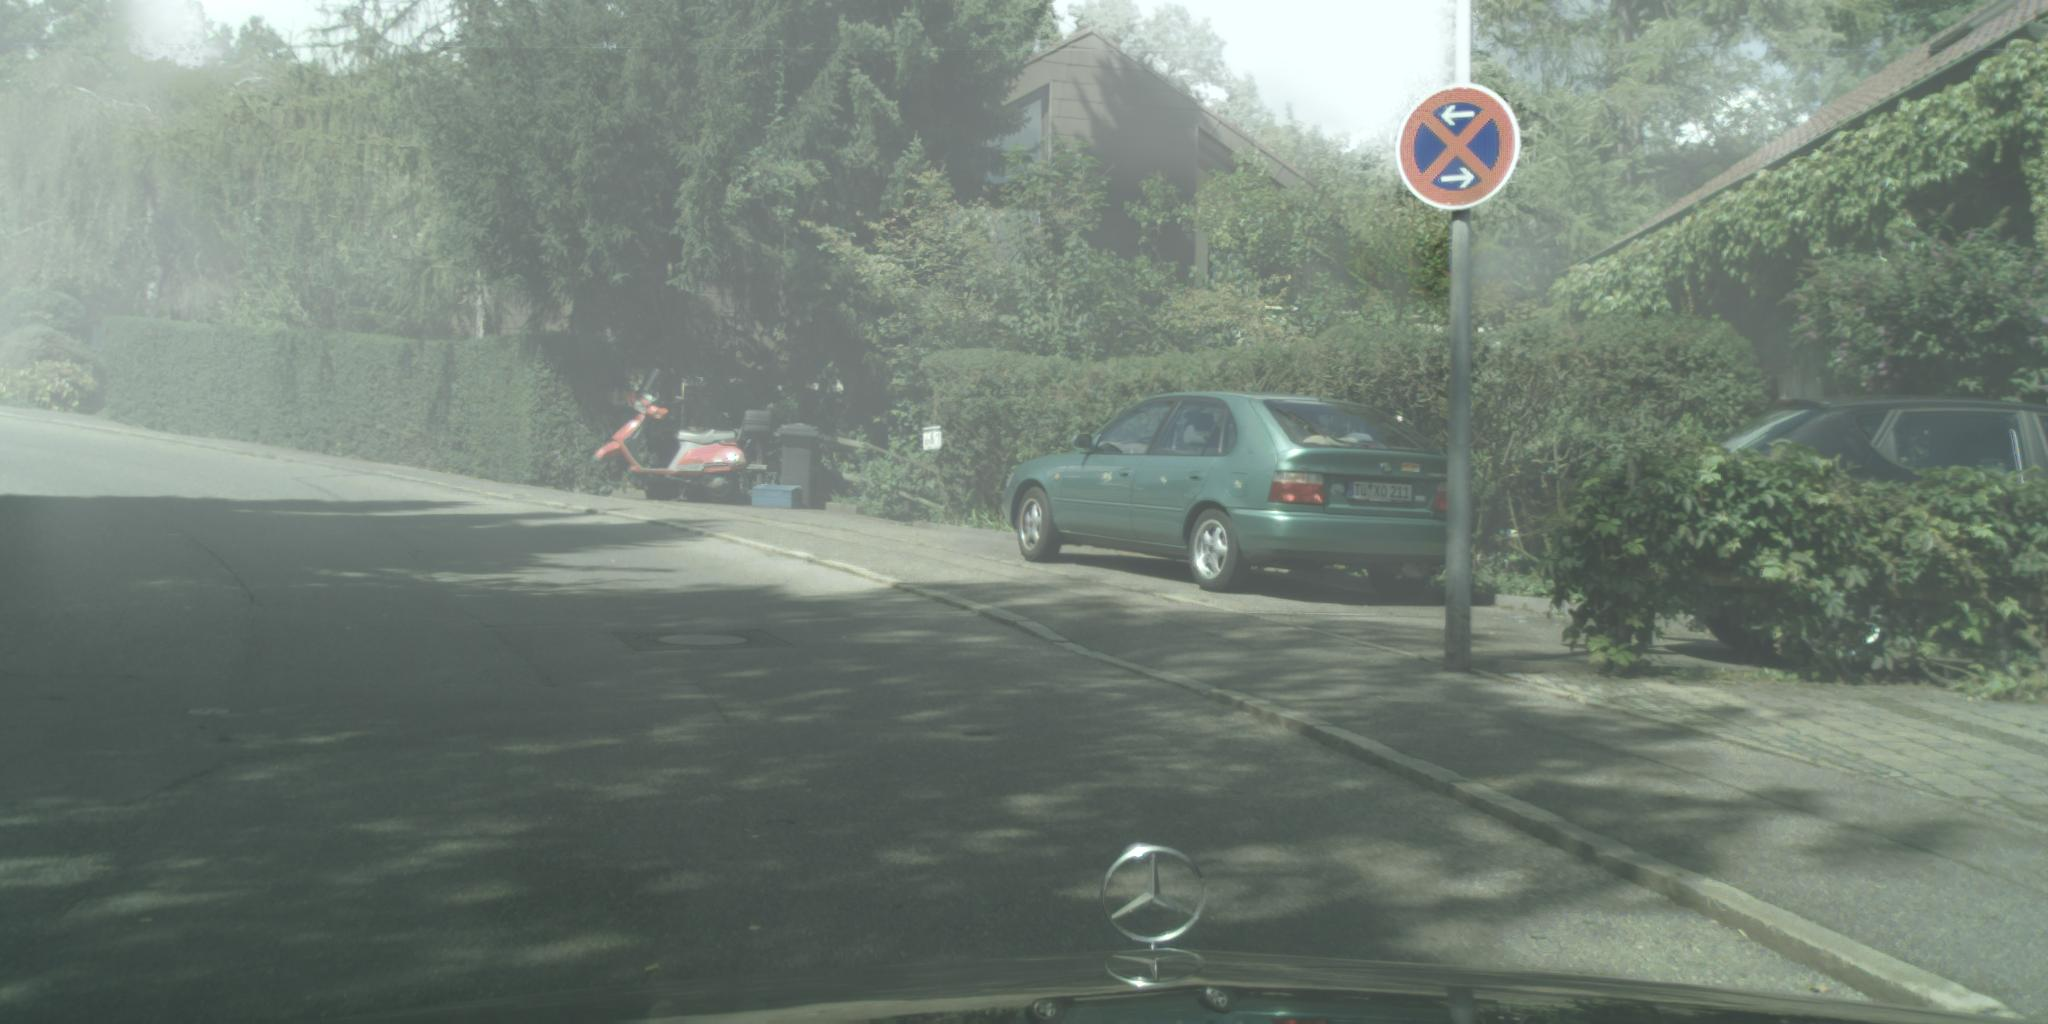car: (1003, 392, 1456, 600), (1712, 396, 2047, 509)
motorcycle: (592, 368, 775, 505)
